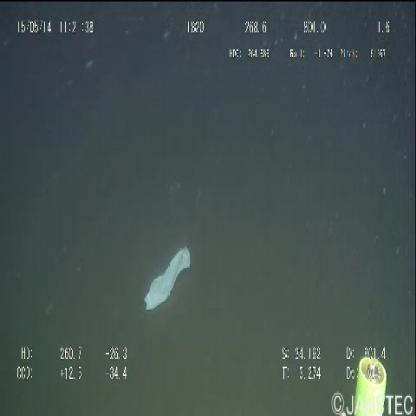Rác: (138, 242, 196, 320)
